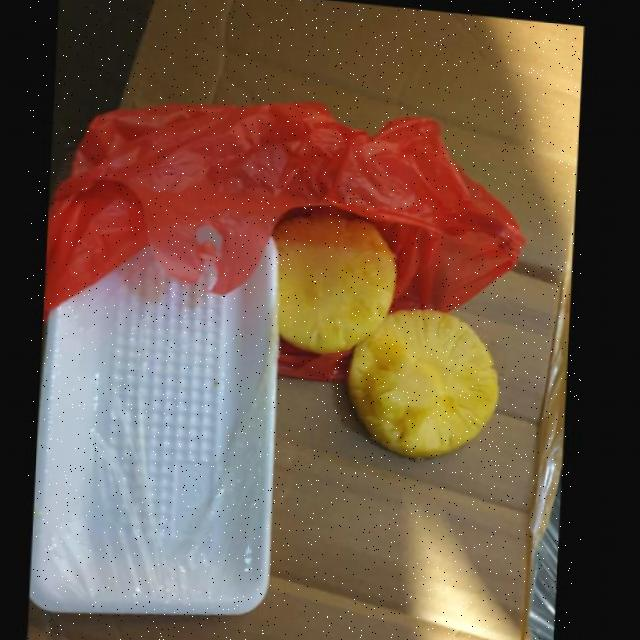biowaste: (345, 305, 498, 456), (271, 206, 395, 351)
paper: (27, 0, 581, 640)
plastic: (42, 98, 525, 324)
styrofoam: (28, 239, 278, 617)
